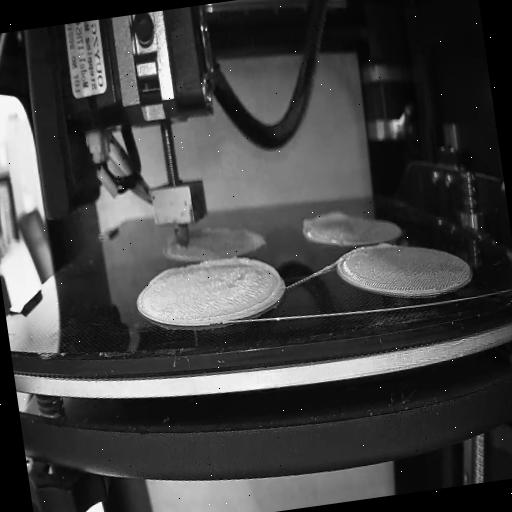over_extrusion: (195, 251, 286, 322), (296, 208, 352, 236), (146, 266, 184, 287), (164, 242, 200, 264), (374, 238, 398, 253)
